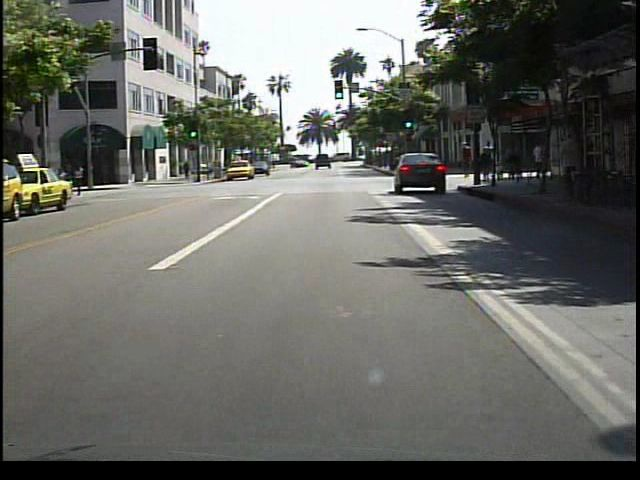person: (72, 161, 94, 202), (457, 141, 474, 183)
